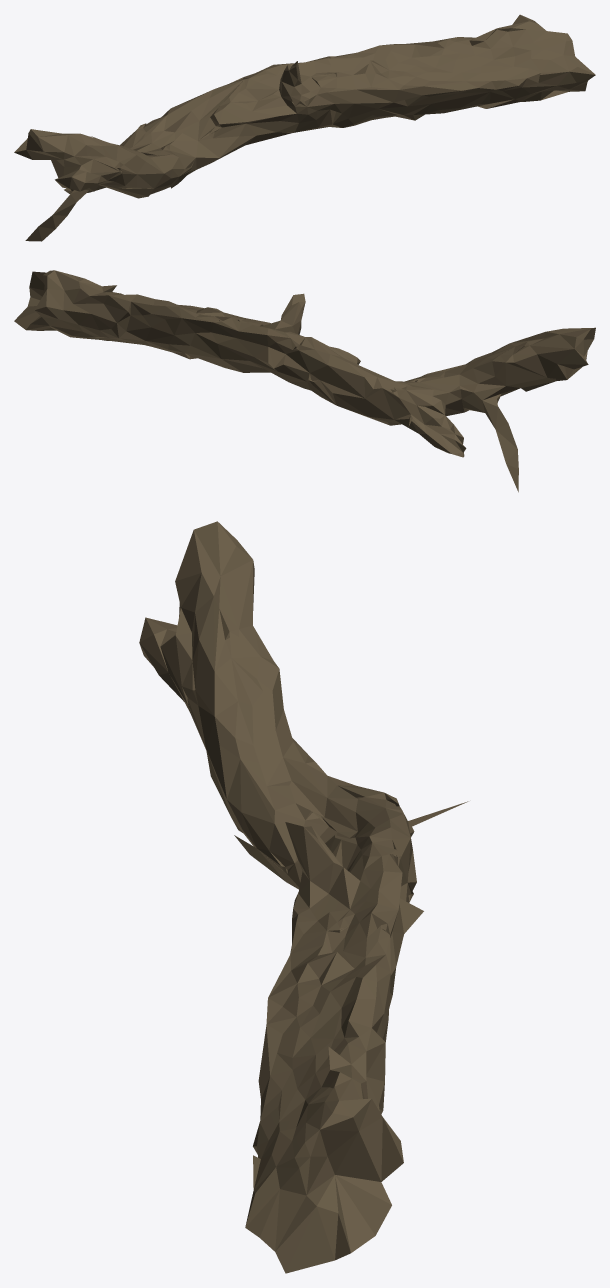
File: trunk_1.fbx
3 renders of one model, top to bottom at view 1: azimuth 30°, elevation 25°; view 2: azimuth 150°, elevation 25°; view 3: azimuth 270°, elevation 25°, orthographic. The views are drawn at different scales.
Parts seen in each view (by area): view 1: dead_tree_trunk_02_LOD0; view 2: dead_tree_trunk_02_LOD0; view 3: dead_tree_trunk_02_LOD0.
Part boxes in pixels (box(x1,y1,x2,y2)): dead_tree_trunk_02_LOD0: box(14, 14, 595, 241); dead_tree_trunk_02_LOD0: box(14, 270, 595, 492); dead_tree_trunk_02_LOD0: box(139, 521, 468, 1273).
Bounding box in the file's own units: 400 × 99.21 × 104.
